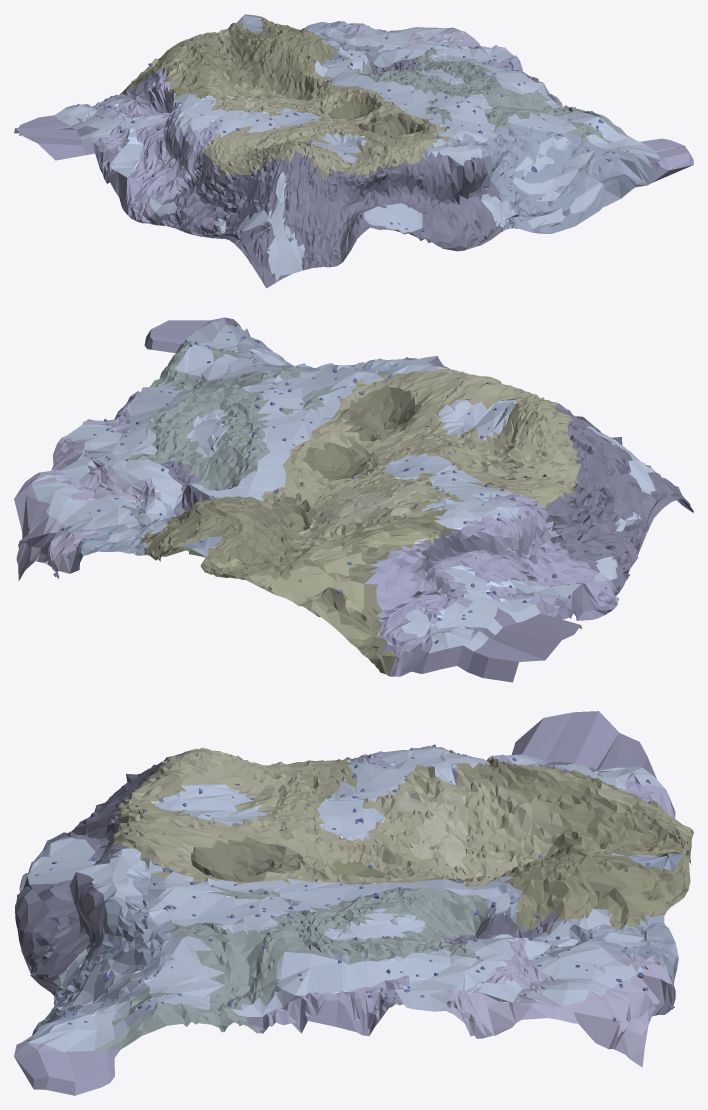
Rendered from moon_map_scatter.obj.
The picture shows the model from 3 angles, top to bottom: view 1: azimuth 30°, elevation 25°; view 2: azimuth 150°, elevation 25°; view 3: azimuth 270°, elevation 25°; orthographic projection. The views are drawn at different scales.
Visible parts, largest first — view 1: Plane; view 2: Plane; view 3: Plane.
Part boxes in pixels (<box>): Plane: <box>14,14,693,288</box>; Plane: <box>14,317,693,682</box>; Plane: <box>14,711,693,1095</box>.
Size of the model in its own units: 207 by 38.18 by 164.
1 material, 1 textured.
